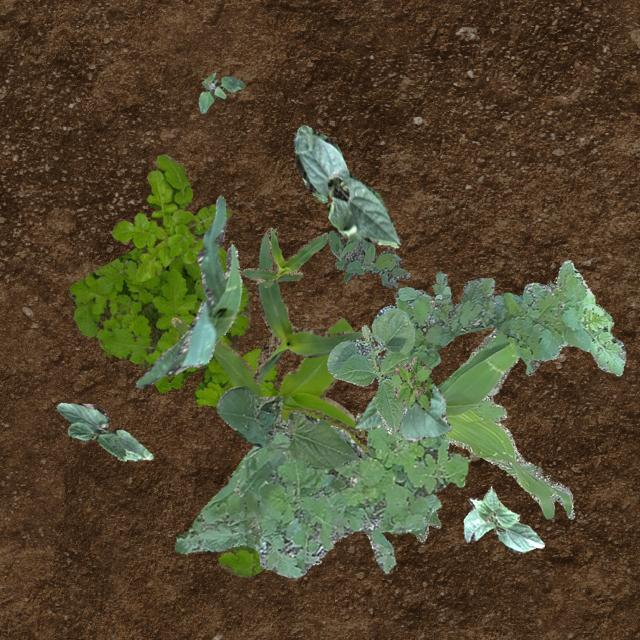crop: (170, 316, 368, 452), (136, 195, 240, 388), (253, 226, 363, 384), (292, 124, 400, 246), (215, 384, 362, 468), (326, 304, 414, 434), (354, 354, 450, 442), (366, 442, 440, 540), (232, 228, 328, 286), (56, 402, 152, 459), (462, 486, 544, 552)
weed: (68, 224, 280, 576), (173, 412, 470, 576), (392, 260, 624, 374), (436, 327, 574, 518), (110, 154, 230, 280), (326, 230, 408, 288), (391, 356, 432, 410), (198, 72, 245, 112)
